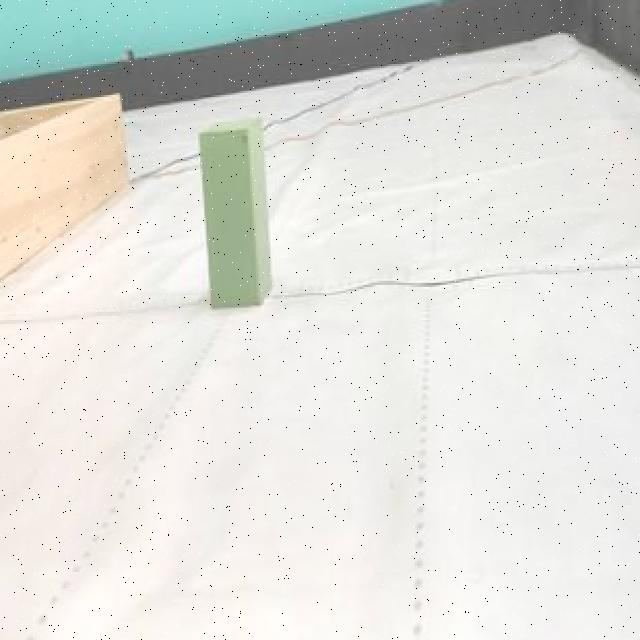greenbox: (198, 114, 272, 308)
